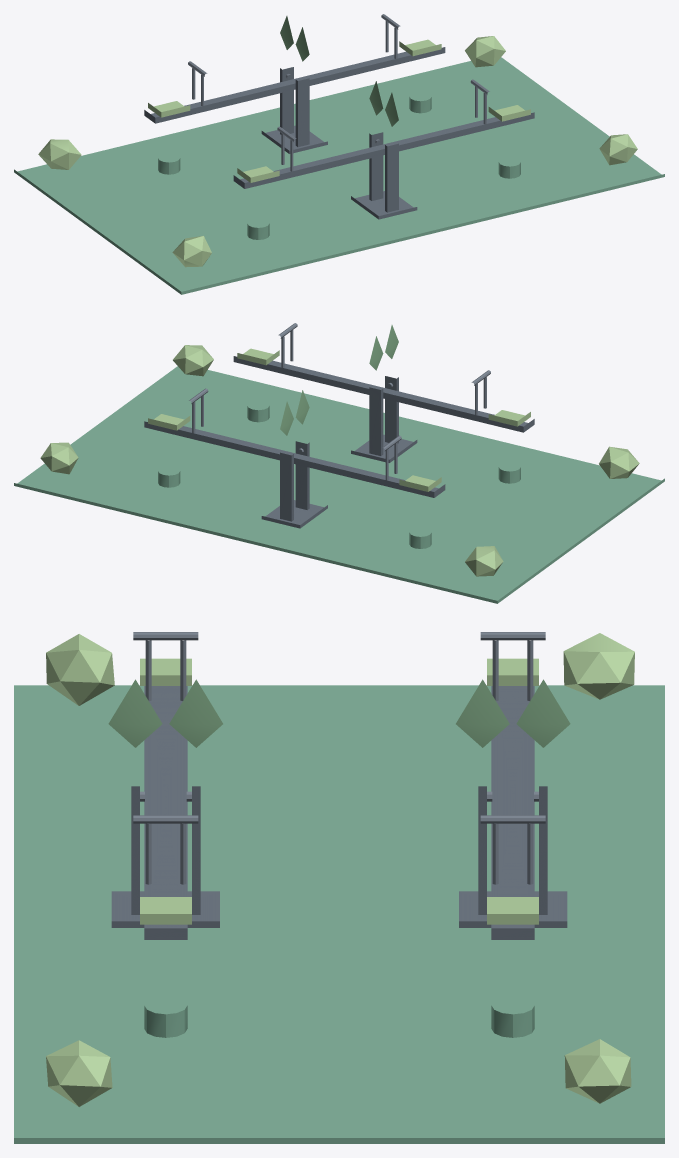
3 renders of one model, top to bottom at view 1: azimuth 30°, elevation 25°; view 2: azimuth 150°, elevation 25°; view 3: azimuth 270°, elevation 25°, orthographic. The views are drawn at different scales.
Parts seen in each view (by area): view 1: Safety_Pad, Foliage, Seesaw1_Beam, Seesaw2_Beam, Fulcrum2, Fulcrum1, Seesaw2_Seats, Seesaw1_Seats, Seesaw2_Handles, Seesaw1_Handles, Bumpers2, Bumpers1 (+2 smaller); view 2: Safety_Pad, Foliage, Seesaw2_Beam, Seesaw1_Beam, Fulcrum1, Fulcrum2, Seesaw1_Seats, Seesaw2_Seats, Seesaw1_Handles, Seesaw2_Handles, Bumpers1, Bumpers2 (+2 smaller); view 3: Safety_Pad, Foliage, Seesaw1_Beam, Seesaw2_Beam, Fulcrum1, Fulcrum2, Leaf_Crests1, Leaf_Crests2, Seesaw1_Handles, Seesaw2_Handles, Seesaw1_Seats, Seesaw2_Seats (+2 smaller).
Boxes of the visible parts, bbox=[...] form: Safety_Pad: bbox=[14, 57, 664, 294]; Foliage: bbox=[38, 36, 637, 267]; Seesaw1_Beam: bbox=[144, 47, 445, 123]; Seesaw2_Beam: bbox=[233, 112, 534, 188]; Fulcrum2: bbox=[351, 132, 417, 219]; Fulcrum1: bbox=[261, 67, 327, 153]; Seesaw2_Seats: bbox=[237, 105, 530, 182]; Seesaw1_Seats: bbox=[148, 39, 441, 117]; Seesaw2_Handles: bbox=[277, 79, 489, 171]; Seesaw1_Handles: bbox=[188, 14, 400, 105]; Bumpers2: bbox=[247, 162, 520, 239]; Bumpers1: bbox=[158, 97, 431, 174]; Safety_Pad: bbox=[14, 366, 664, 603]; Foliage: bbox=[40, 345, 639, 576]; Seesaw2_Beam: bbox=[233, 356, 534, 432]; Seesaw1_Beam: bbox=[144, 421, 445, 497]; Fulcrum1: bbox=[261, 441, 327, 528]; Fulcrum2: bbox=[351, 376, 417, 462]; Seesaw1_Seats: bbox=[148, 414, 441, 491]; Seesaw2_Seats: bbox=[237, 348, 530, 426]; Seesaw1_Handles: bbox=[189, 388, 401, 480]; Seesaw2_Handles: bbox=[278, 323, 490, 414]; Bumpers1: bbox=[158, 471, 431, 548]; Bumpers2: bbox=[247, 406, 520, 483]; Safety_Pad: bbox=[14, 685, 664, 1143]; Foliage: bbox=[46, 633, 634, 1106]; Seesaw1_Beam: bbox=[491, 686, 534, 939]; Seesaw2_Beam: bbox=[144, 686, 187, 939]; Fulcrum1: bbox=[459, 786, 567, 927]; Fulcrum2: bbox=[111, 786, 219, 927]; Leaf_Crests1: bbox=[456, 679, 570, 747]; Leaf_Crests2: bbox=[108, 679, 222, 747]; Seesaw1_Handles: bbox=[480, 632, 545, 884]; Seesaw2_Handles: bbox=[133, 632, 198, 884]; Seesaw1_Seats: bbox=[487, 658, 538, 924]; Seesaw2_Seats: bbox=[140, 658, 191, 924].
Size of what is drawn, in the model's own units: 5 by 1.2 by 3.
5 materials, 2 textured.
